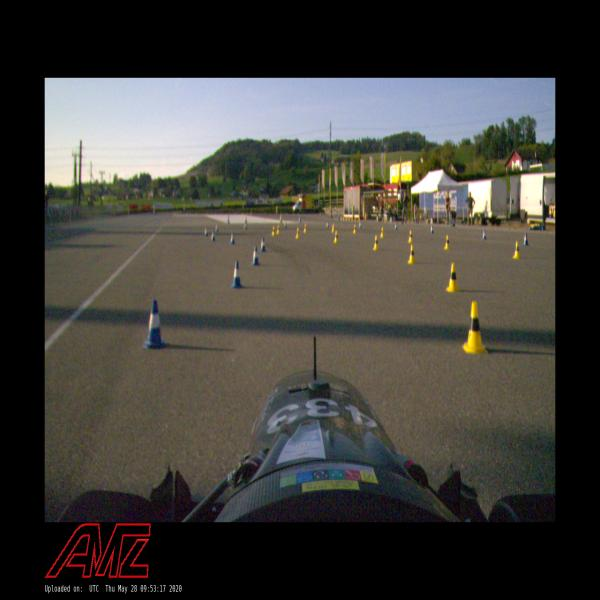blue_cone: (142, 300, 168, 350), (230, 262, 242, 289), (251, 246, 260, 266), (260, 237, 267, 252), (523, 232, 529, 246), (230, 232, 235, 244), (482, 229, 487, 240), (211, 230, 215, 241), (204, 227, 208, 236), (394, 222, 398, 231), (430, 225, 434, 233), (358, 221, 362, 228)
yellow_cone: (462, 301, 488, 354), (446, 263, 460, 292), (407, 245, 417, 264), (513, 240, 521, 259), (444, 235, 451, 250), (373, 235, 379, 251), (333, 230, 339, 244), (408, 230, 413, 243), (271, 226, 276, 236), (380, 227, 385, 237), (296, 228, 300, 238), (331, 223, 335, 233), (353, 224, 357, 234), (276, 225, 280, 234), (304, 224, 308, 233)
